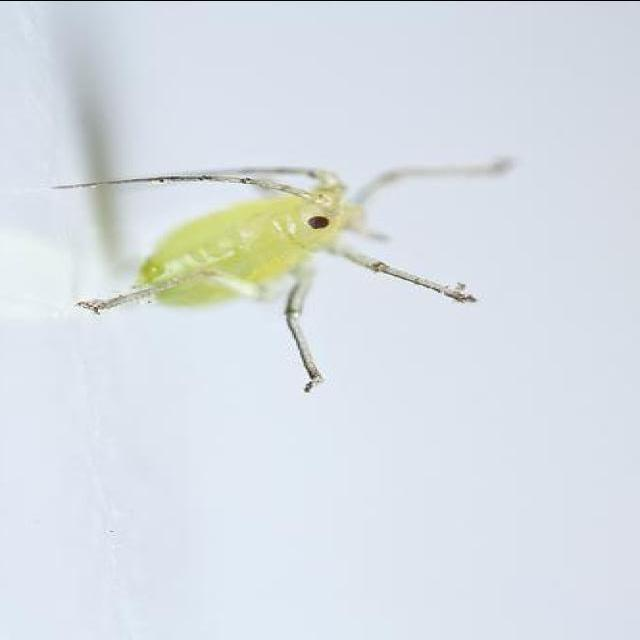aphid: (75, 138, 488, 378)
